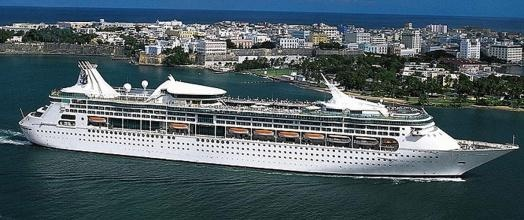youlun: (20, 68, 519, 176)
